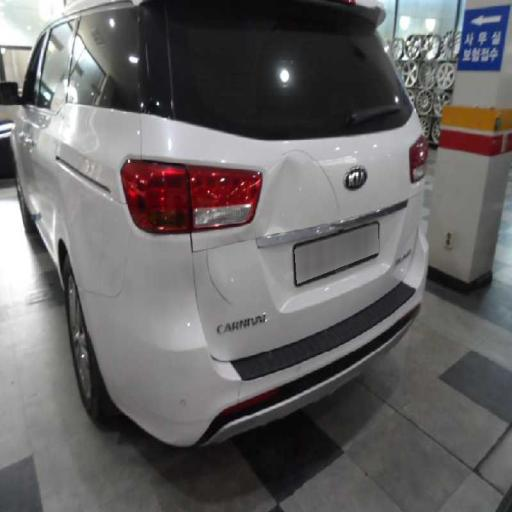dent: (186, 128, 370, 336), (376, 180, 442, 310), (69, 226, 146, 328)
